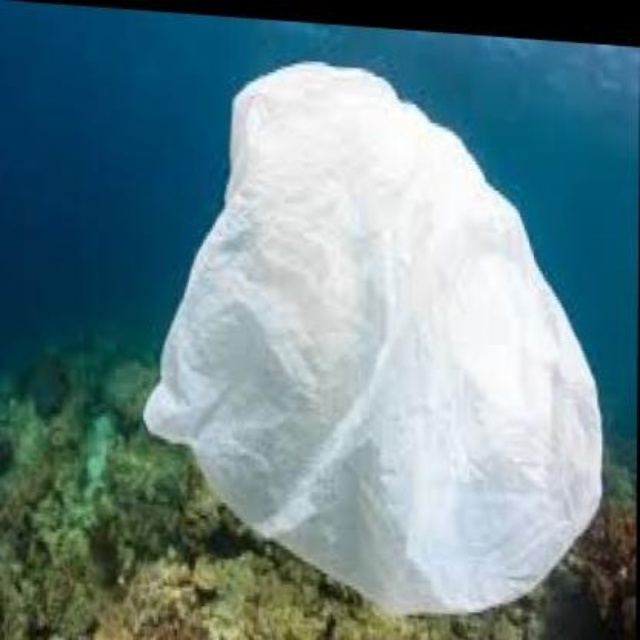trash: (145, 63, 600, 612)
